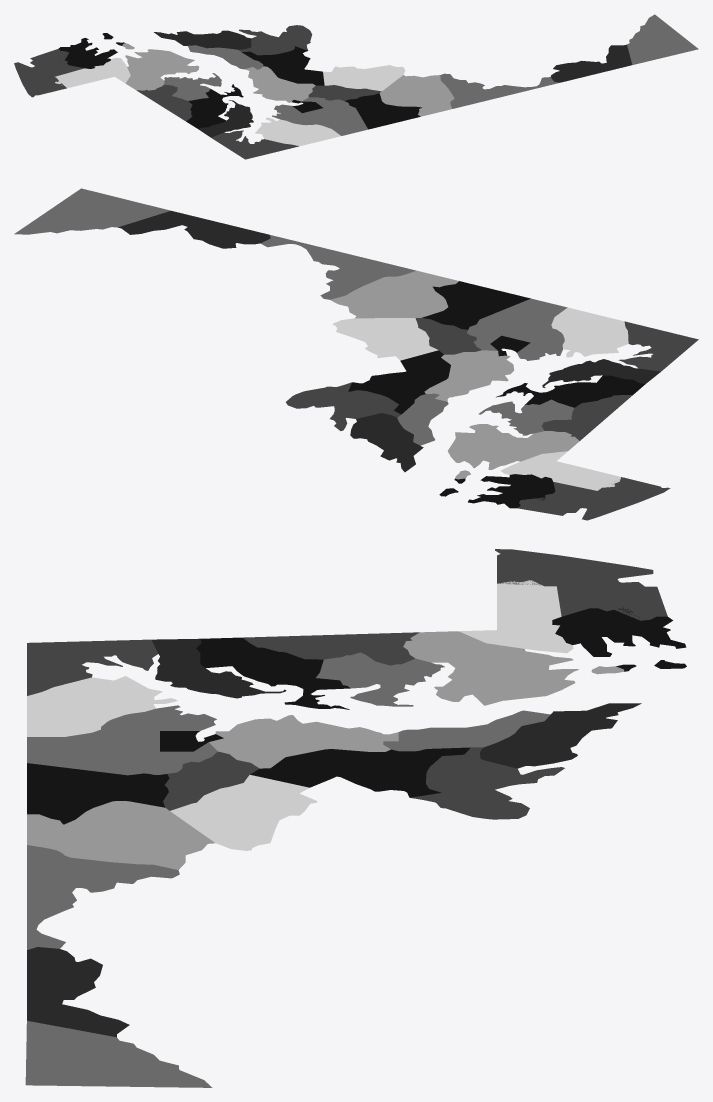
File: Maryland_Counties_2D.fbx
3 views of the same model, one above another, from view 1: azimuth 30°, elevation 25°; view 2: azimuth 150°, elevation 25°; view 3: azimuth 270°, elevation 25° (orthographic). The views are drawn at different scales.
Parts seen in each view (by area): view 1: MD_Frederick_County_2D, MD_Baltimore_County_2D, MD_Dorchester_County_2D, MD_Garrett_County_2D, MD_Worcester_County_2D, MD_Montgomery_County_2D, MD_Washington_County_2D, MD_Prince_Georges_County_2D, MD_Harford_County_2D, MD_Carroll_County_2D, MD_Anne_Arundel_County_2D, MD_Charles_County_2D (+12 smaller); view 2: MD_Frederick_County_2D, MD_Baltimore_County_2D, MD_Garrett_County_2D, MD_Dorchester_County_2D, MD_Worcester_County_2D, MD_Montgomery_County_2D, MD_Washington_County_2D, MD_Prince_Georges_County_2D, MD_Harford_County_2D, MD_Carroll_County_2D, MD_Anne_Arundel_County_2D, MD_Charles_County_2D (+11 smaller); view 3: MD_Frederick_County_2D, MD_Baltimore_County_2D, MD_Dorchester_County_2D, MD_Garrett_County_2D, MD_Worcester_County_2D, MD_Montgomery_County_2D, MD_Prince_Georges_County_2D, MD_Washington_County_2D, MD_Harford_County_2D, MD_Carroll_County_2D, MD_Anne_Arundel_County_2D, MD_Charles_County_2D (+12 smaller).
Part boxes in pixels (left/top/right/bottom): MD_Frederick_County_2D: left=379, top=75, right=454, bottom=116; MD_Baltimore_County_2D: left=272, top=97, right=367, bottom=135; MD_Dorchester_County_2D: left=122, top=43, right=199, bottom=90; MD_Garrett_County_2D: left=627, top=14, right=698, bottom=64; MD_Worcester_County_2D: left=14, top=49, right=83, bottom=97; MD_Montgomery_County_2D: left=323, top=65, right=405, bottom=91; MD_Washington_County_2D: left=440, top=73, right=559, bottom=108; MD_Prince_Georges_County_2D: left=242, top=46, right=324, bottom=85; MD_Harford_County_2D: left=255, top=117, right=340, bottom=146; MD_Carroll_County_2D: left=345, top=93, right=421, bottom=129; MD_Anne_Arundel_County_2D: left=244, top=66, right=315, bottom=102; MD_Charles_County_2D: left=239, top=25, right=312, bottom=55; MD_Frederick_County_2D: left=330, top=270, right=458, bottom=318; MD_Baltimore_County_2D: left=467, top=298, right=567, bottom=360; MD_Garrett_County_2D: left=14, top=188, right=170, bottom=234; MD_Dorchester_County_2D: left=448, top=424, right=579, bottom=479; MD_Worcester_County_2D: left=517, top=477, right=670, bottom=520; MD_Montgomery_County_2D: left=332, top=318, right=438, bottom=360; MD_Washington_County_2D: left=260, top=235, right=415, bottom=299; MD_Prince_Georges_County_2D: left=348, top=350, right=450, bottom=414; MD_Harford_County_2D: left=551, top=307, right=628, bottom=357; MD_Carroll_County_2D: left=422, top=281, right=530, bottom=329; MD_Anne_Arundel_County_2D: left=424, top=350, right=514, bottom=401; MD_Charles_County_2D: left=286, top=382, right=401, bottom=430; MD_Frederick_County_2D: left=27, top=801, right=215, bottom=869; MD_Baltimore_County_2D: left=27, top=705, right=217, bottom=775; MD_Dorchester_County_2D: left=403, top=631, right=623, bottom=705; MD_Garrett_County_2D: left=25, top=1020, right=212, bottom=1087; MD_Worcester_County_2D: left=495, top=549, right=667, bottom=620; MD_Montgomery_County_2D: left=170, top=775, right=317, bottom=850; MD_Prince_Georges_County_2D: left=250, top=747, right=470, bottom=797; MD_Washington_County_2D: left=27, top=845, right=179, bottom=949; MD_Harford_County_2D: left=27, top=676, right=177, bottom=736; MD_Carroll_County_2D: left=27, top=763, right=169, bottom=824; MD_Anne_Arundel_County_2D: left=209, top=715, right=398, bottom=768; MD_Charles_County_2D: left=410, top=747, right=564, bottom=819.
Bounding box in the file's own units: 806 × 0 × 418.
